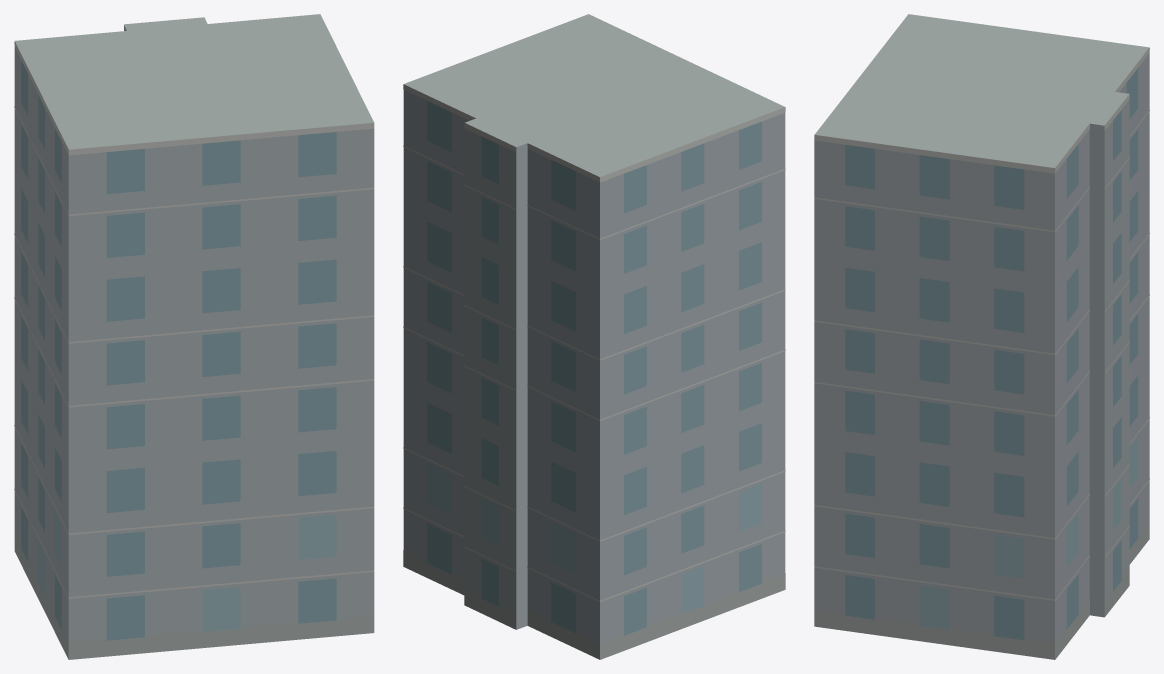
Rendered from survey-upis-32526624.glb.
3 views of the same model, side by side, from view 1: azimuth 30°, elevation 25°; view 2: azimuth 150°, elevation 25°; view 3: azimuth 270°, elevation 25° (orthographic). The views are drawn at different scales.
Visible parts, largest first — view 1: survey-upis-32526624.tmp; view 2: survey-upis-32526624.tmp; view 3: survey-upis-32526624.tmp.
Boxes of the visible parts, left/top/right/bottom form: survey-upis-32526624.tmp: left=14, top=14, right=374, bottom=659; survey-upis-32526624.tmp: left=403, top=14, right=785, bottom=659; survey-upis-32526624.tmp: left=814, top=14, right=1149, bottom=659.
Bounding box in the file's own units: 14.51 × 21.55 × 13.33.
